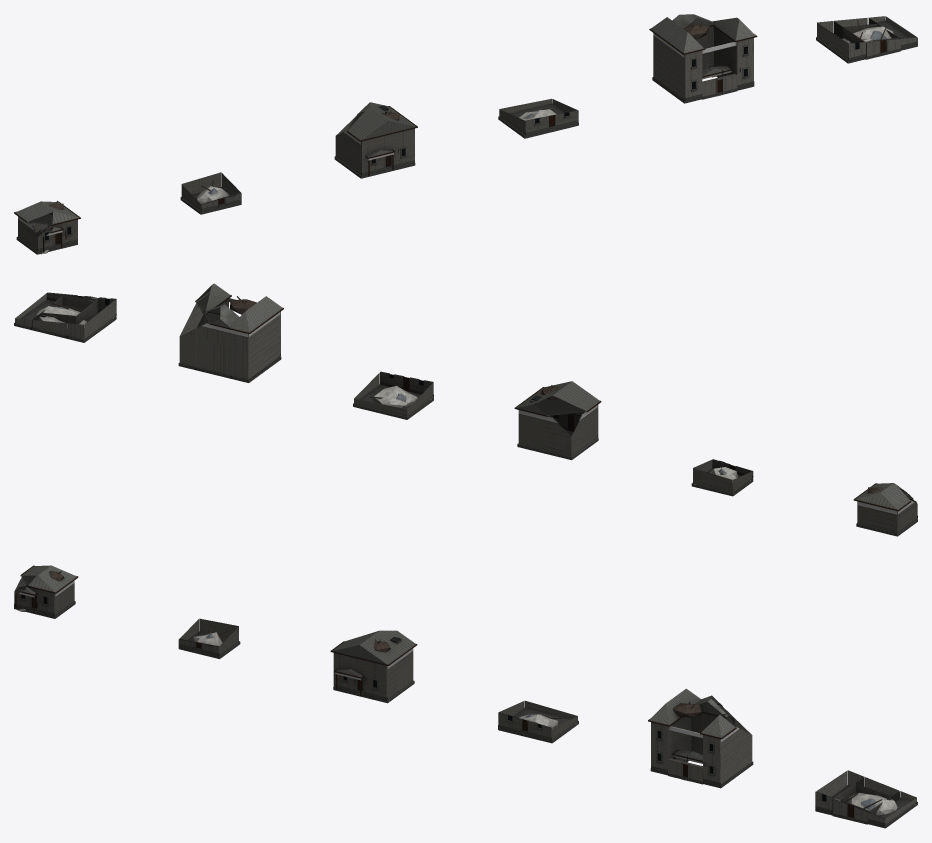
Rendered from modern-eastafrica-houses-damage.glb.
3 renders of one model, top to bottom at view 1: azimuth 30°, elevation 25°; view 2: azimuth 150°, elevation 25°; view 3: azimuth 330°, elevation 25°, orthographic.
Visible parts, largest first — view 1: LOD0.004, LOD0.002, LOD0.005, LOD0, LOD0.003, LOD0.001; view 2: LOD0.004, LOD0.002, LOD0.005, LOD0.003, LOD0, LOD0.001; view 3: LOD0.004, LOD0.002, LOD0.005, LOD0, LOD0.003, LOD0.001.
Part boxes in pixels (left/top/right/bottom): LOD0.004: left=649, top=14, right=757, bottom=103; LOD0.002: left=334, top=102, right=417, bottom=178; LOD0.005: left=816, top=16, right=917, bottom=63; LOD0: left=14, top=200, right=80, bottom=254; LOD0.003: left=498, top=98, right=578, bottom=138; LOD0.001: left=180, top=172, right=241, bottom=214; LOD0.004: left=178, top=283, right=283, bottom=382; LOD0.002: left=514, top=381, right=601, bottom=460; LOD0.005: left=14, top=292, right=116, bottom=342; LOD0.003: left=353, top=371, right=433, bottom=419; LOD0: left=853, top=483, right=917, bottom=536; LOD0.001: left=691, top=459, right=753, bottom=496; LOD0.004: left=648, top=688, right=753, bottom=788; LOD0.002: left=330, top=630, right=417, bottom=703; LOD0.005: left=815, top=770, right=917, bottom=828; LOD0: left=14, top=565, right=78, bottom=618; LOD0.003: left=498, top=700, right=578, bottom=743; LOD0.001: left=178, top=618, right=240, bottom=659.
Size of what is drawn, in the model's own units: 16.05 by 1.15 by 1.09.
2 materials, 2 textured.
